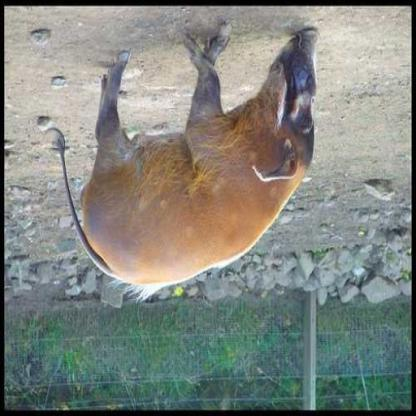boar: (43, 18, 385, 315)
